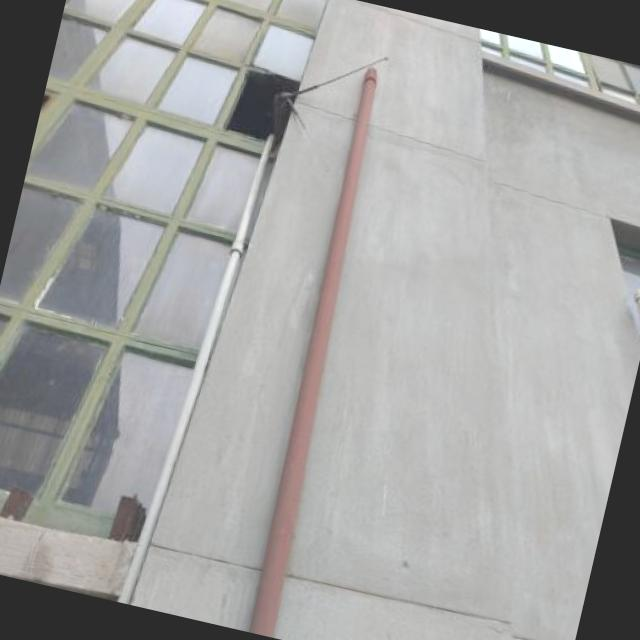gas: (248, 69, 378, 637), (116, 139, 271, 604)
